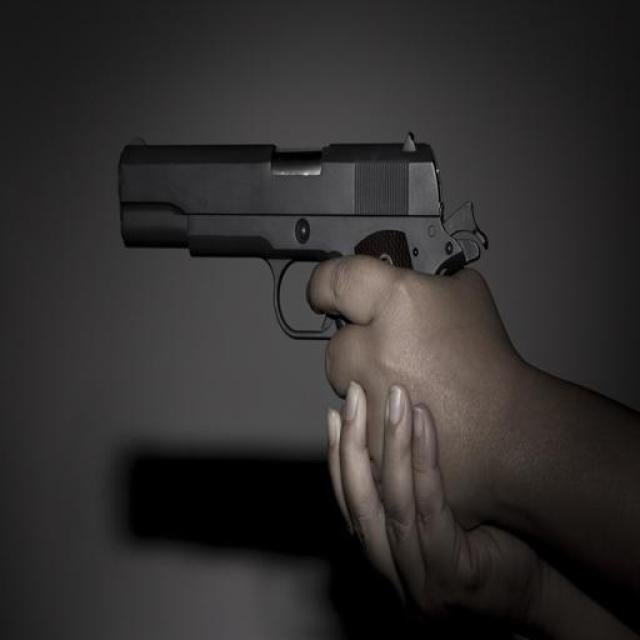pistol: (118, 127, 489, 361)
